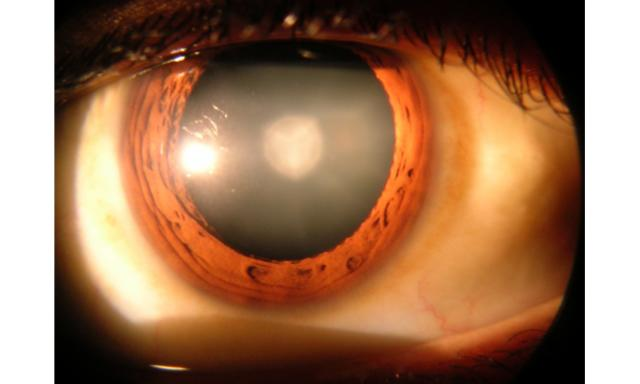eye: (118, 32, 436, 304)
